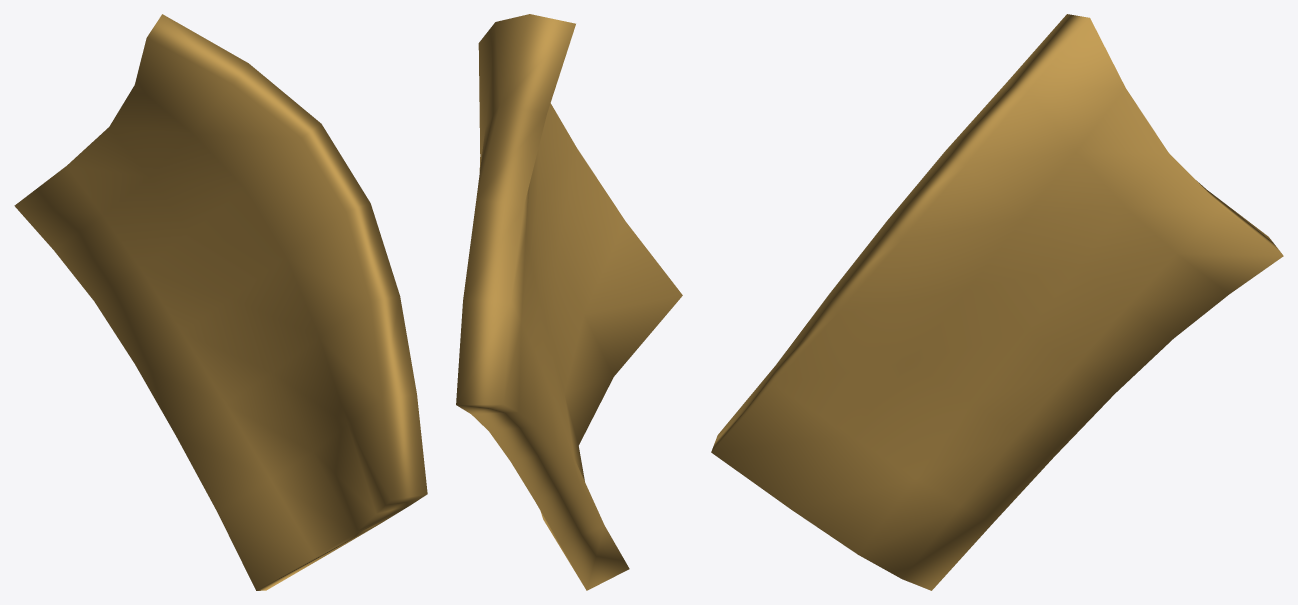
3 views of the same model, side by side, from view 1: azimuth 30°, elevation 25°; view 2: azimuth 150°, elevation 25°; view 3: azimuth 270°, elevation 25° (orthographic). The views are drawn at different scales.
Visible parts, largest first — view 1: 左侧胸锁后韧带; view 2: 左侧胸锁后韧带; view 3: 左侧胸锁后韧带.
Part boxes in pixels (<box>): 左侧胸锁后韧带: <box>14,14,427,590</box>; 左侧胸锁后韧带: <box>456,14,682,590</box>; 左侧胸锁后韧带: <box>711,14,1283,590</box>.
Bounding box in the file's own units: 0.0119 × 0.033 × 0.0307.
